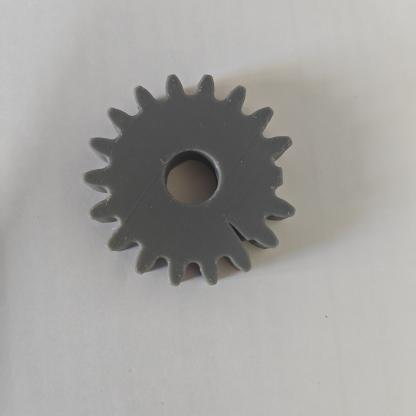defect: (202, 206, 288, 277), (248, 139, 320, 199)
gear: (71, 63, 338, 296)
